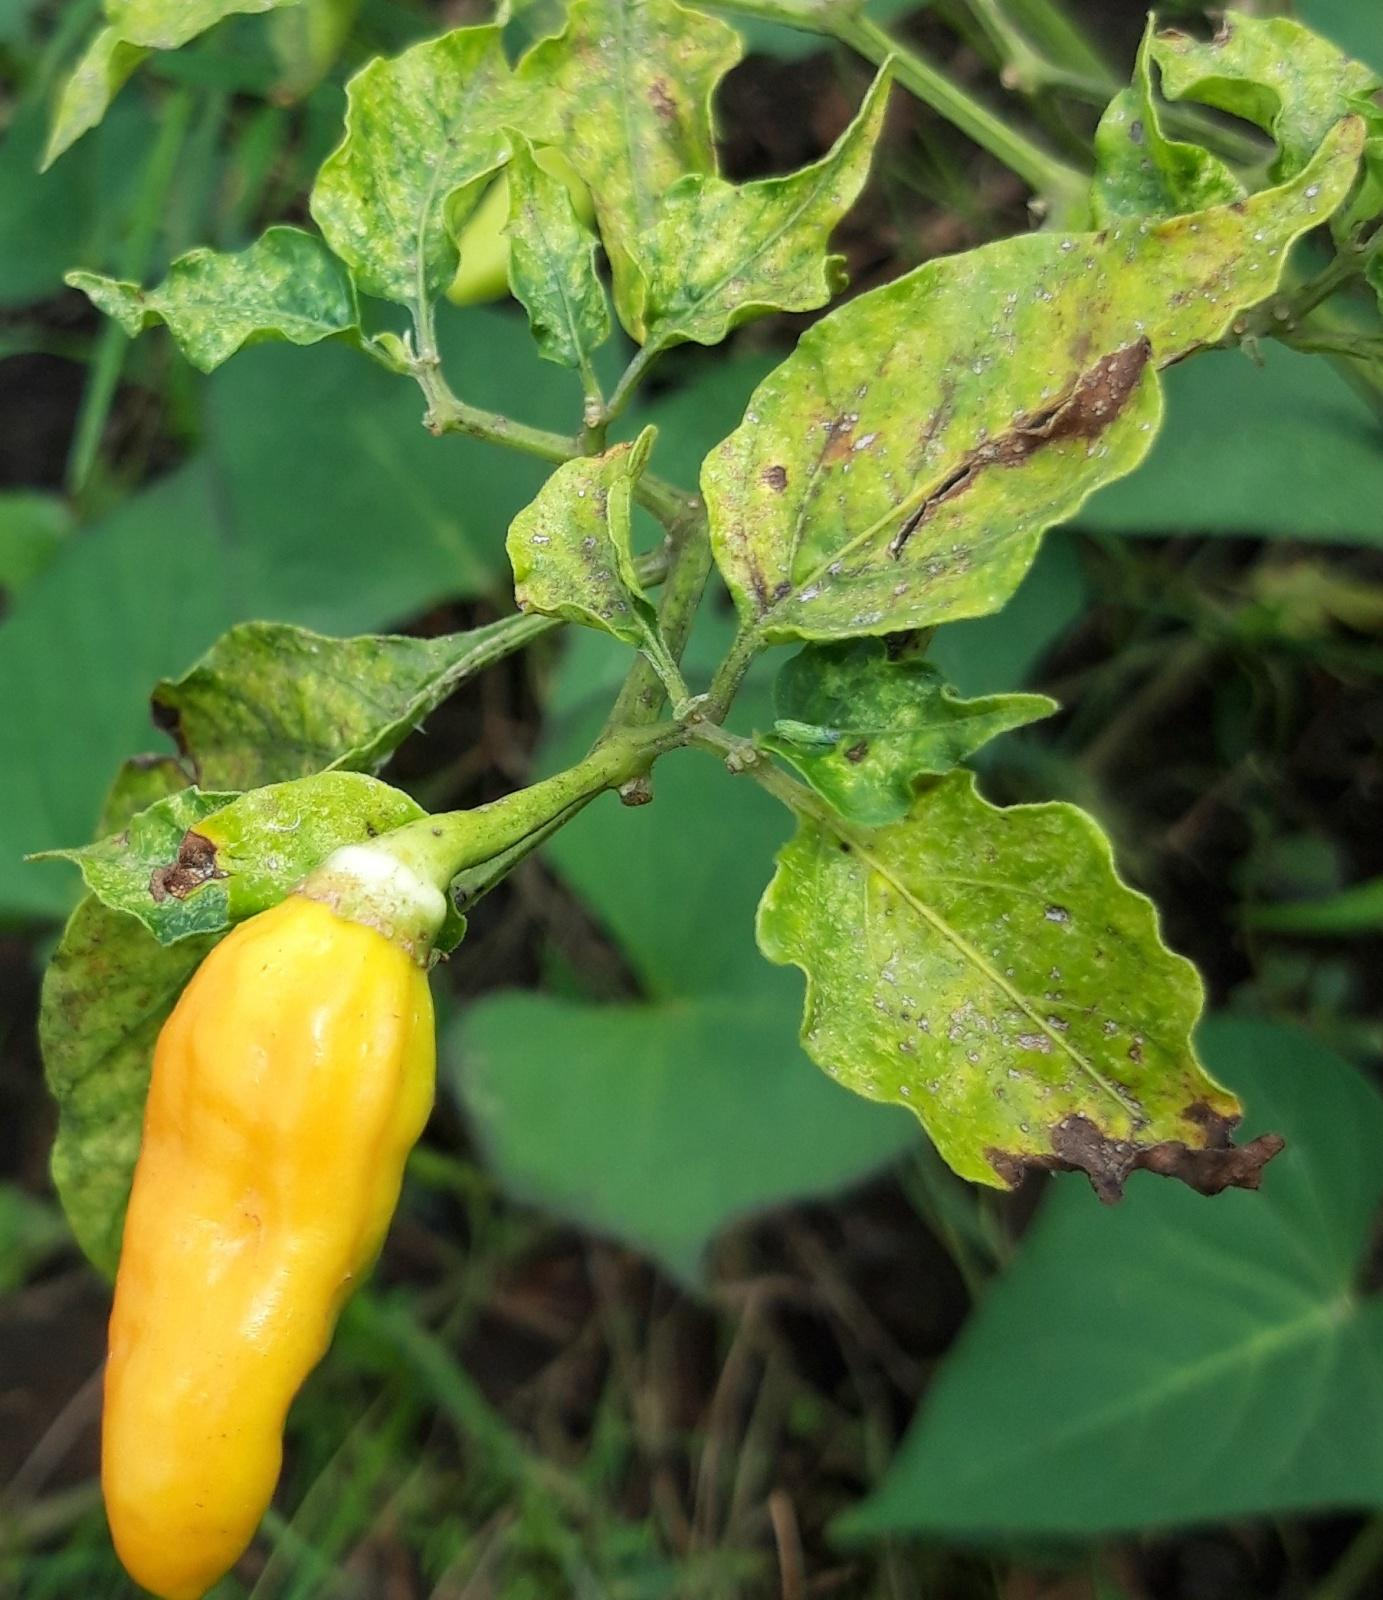cabai_normal: (101, 893, 441, 1600)
